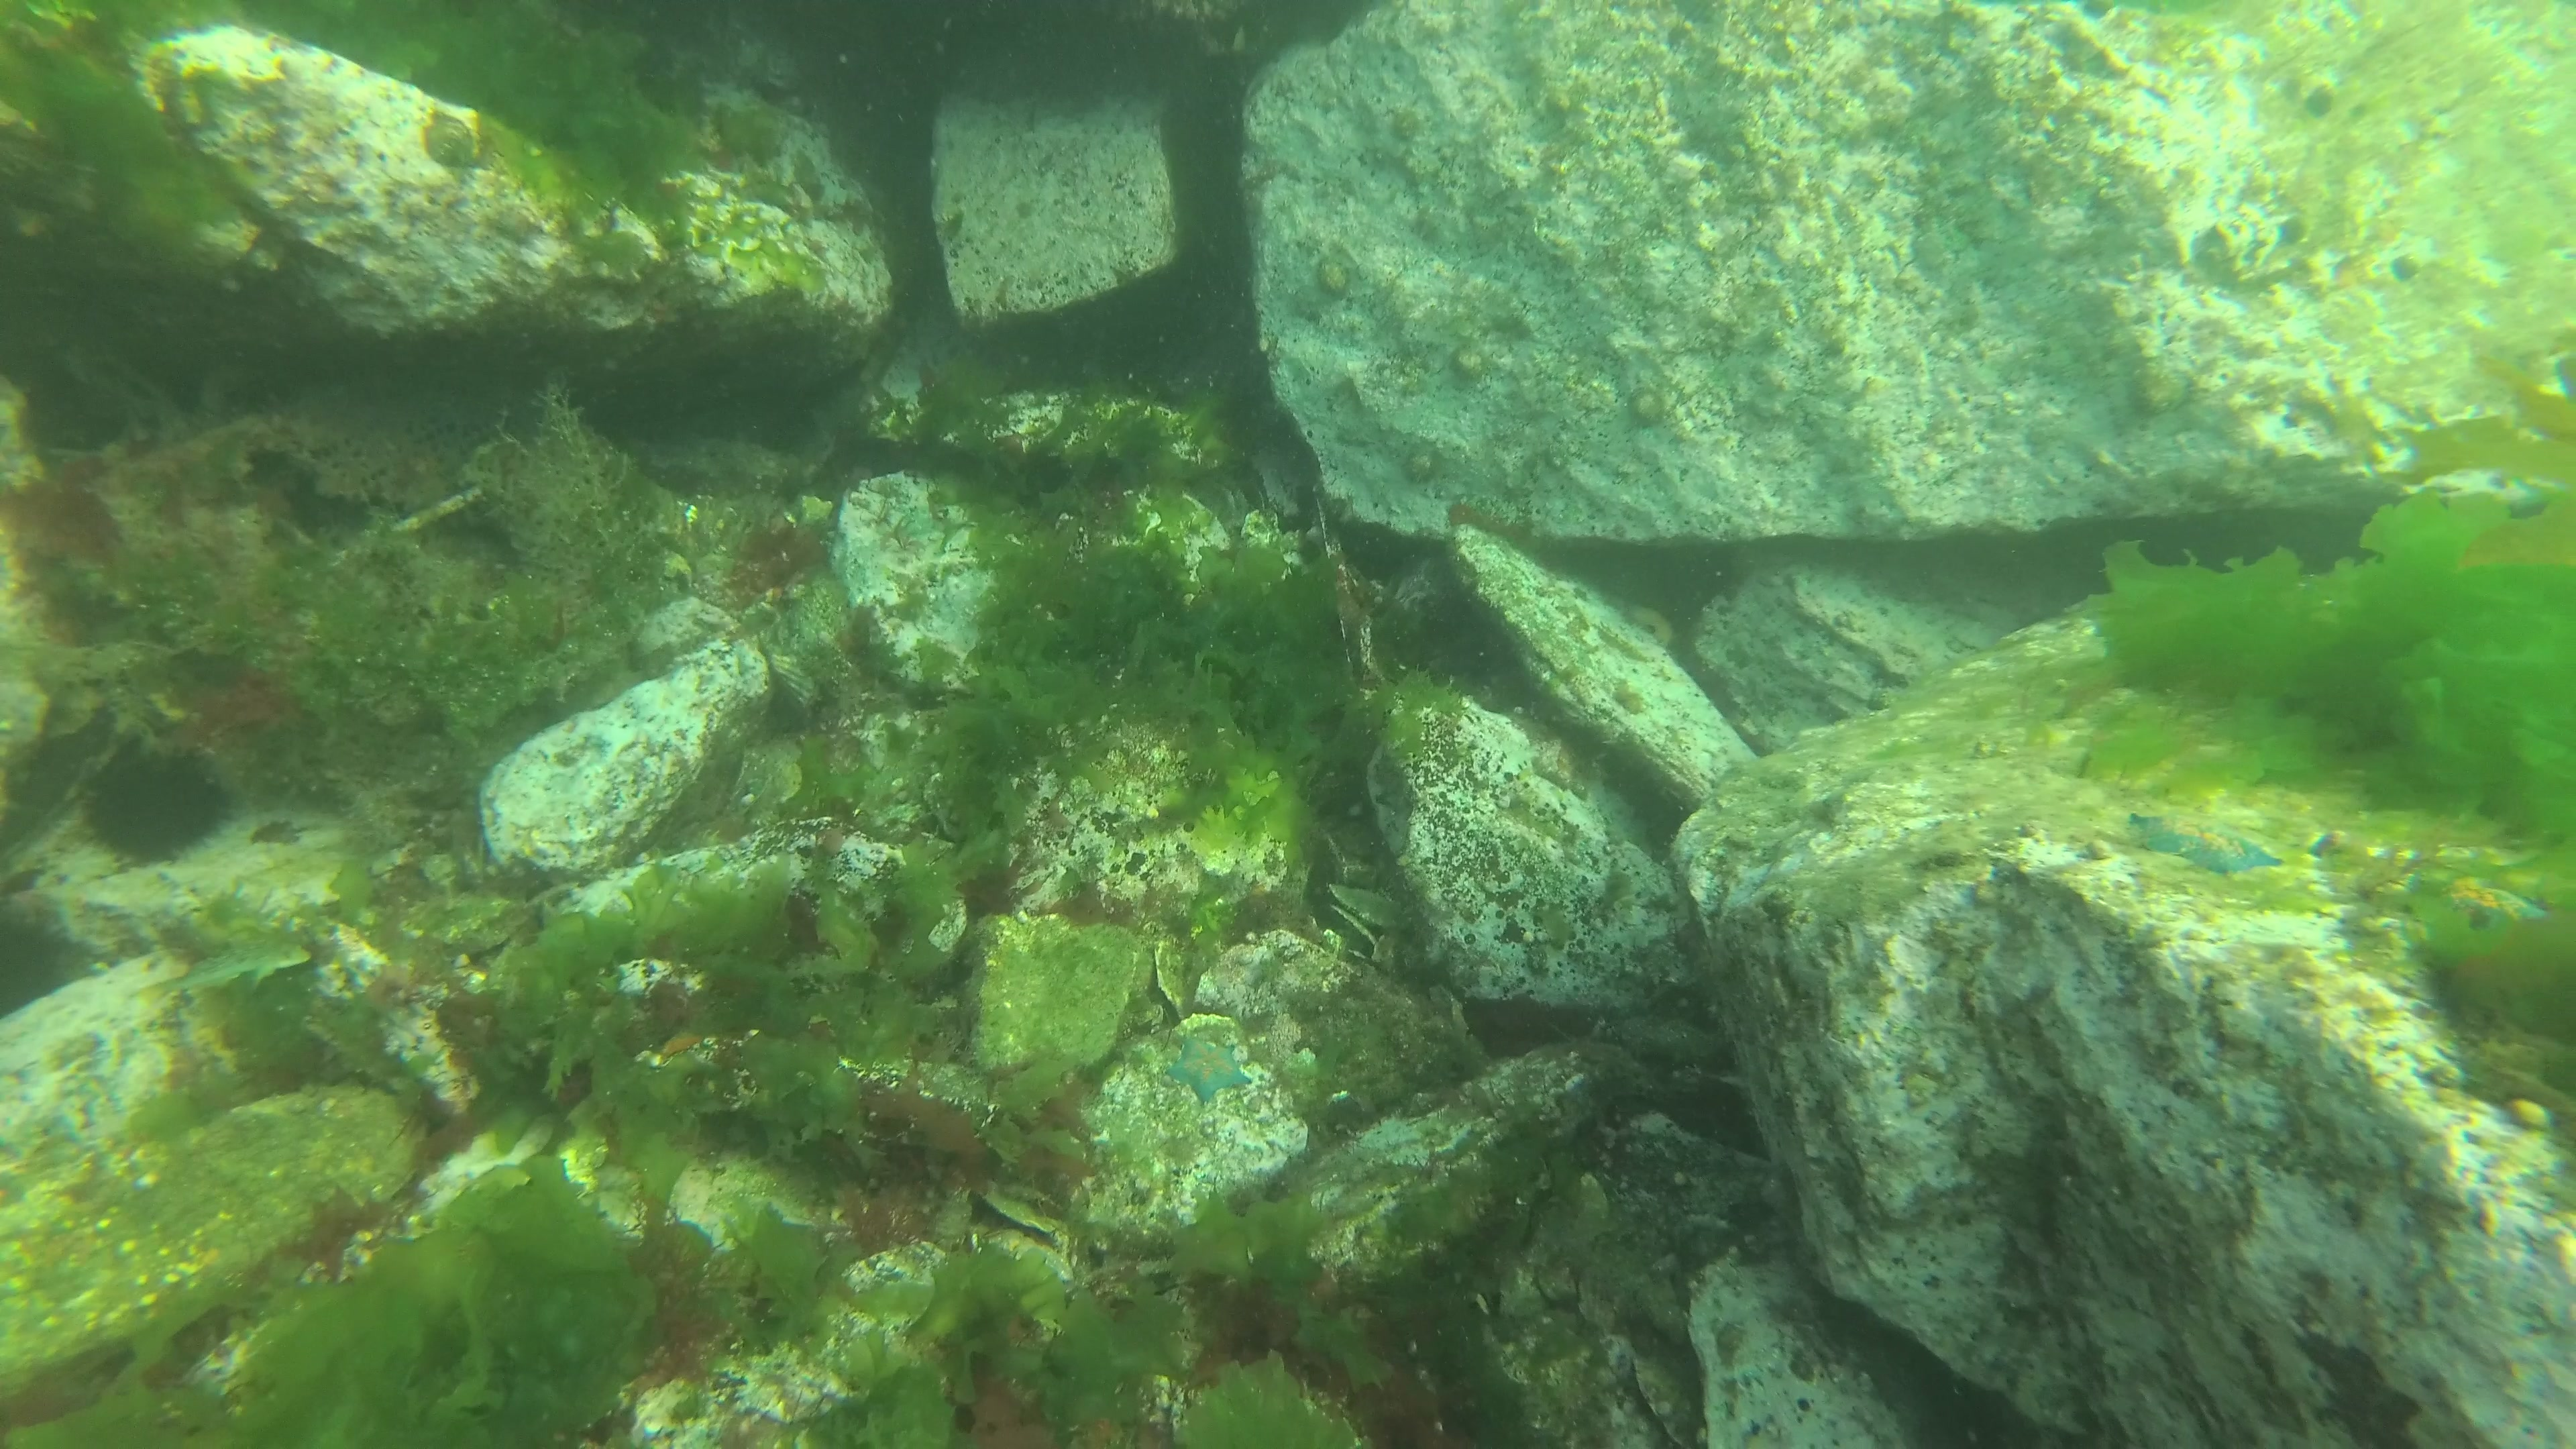echinus: (76, 738, 244, 872)
starfish: (2123, 801, 2281, 885), (2408, 872, 2555, 936), (1164, 1033, 1258, 1104)
